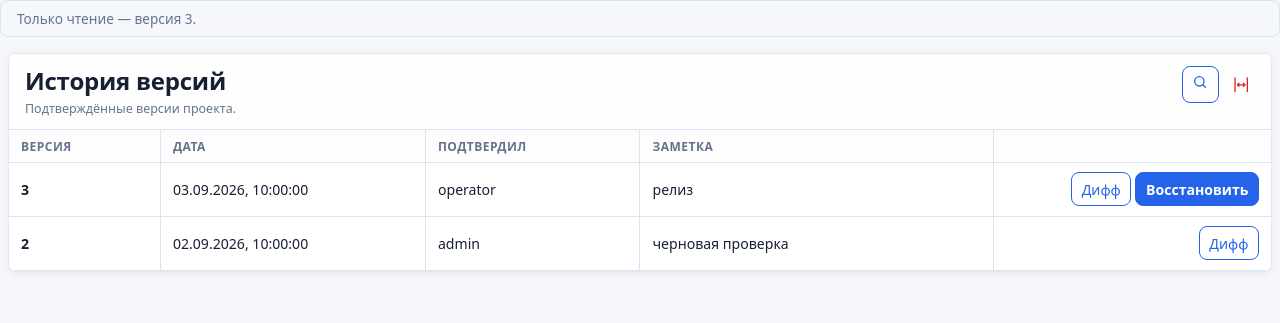
Test: HistoryPage › uses the shared table surface and filters versions
expect the text "3" is shown: met, box [21,180,29,199]
expect the heading "История версий" is shown: met, box [25,64,226,97]
Click the button named "Открыть поиск". click: (1200, 84)
box: [1182,66,1219,103]
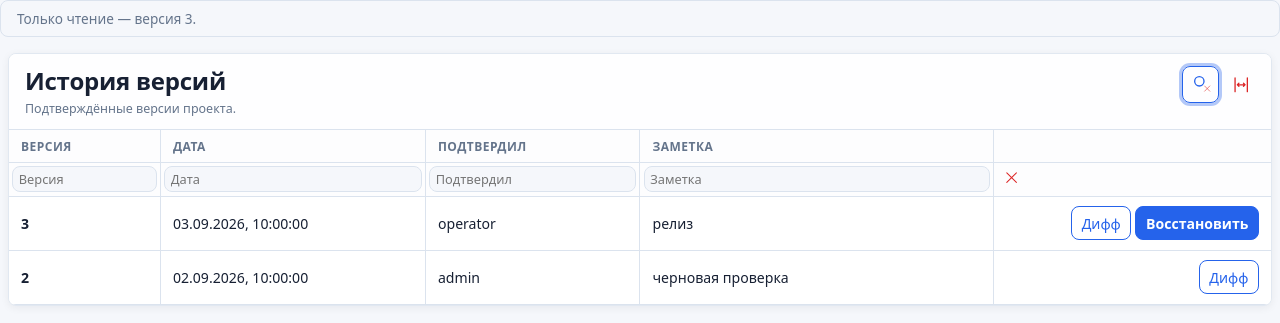
Type "релиз" into the field with placeholder "Заметка". click: (817, 179)
box: [644,166,990,192]
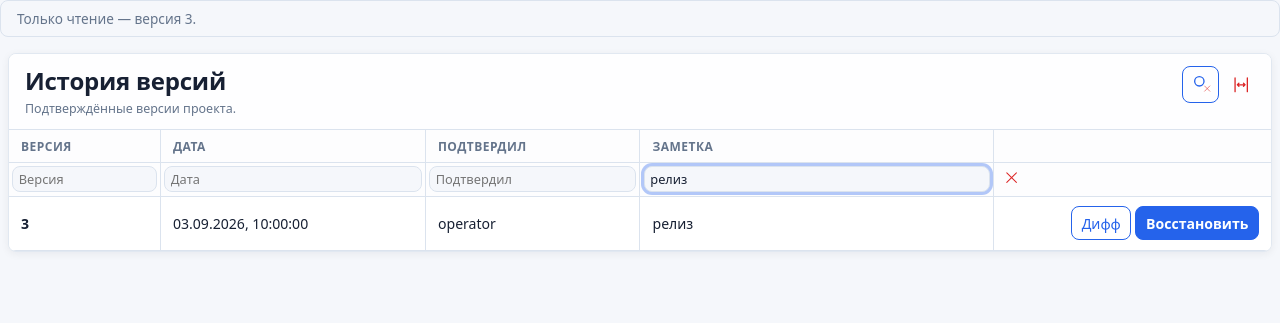
expect the text "релиз" is shown: met, box [640,196,993,250]
expect the text "черновая проверка" is gone: met
